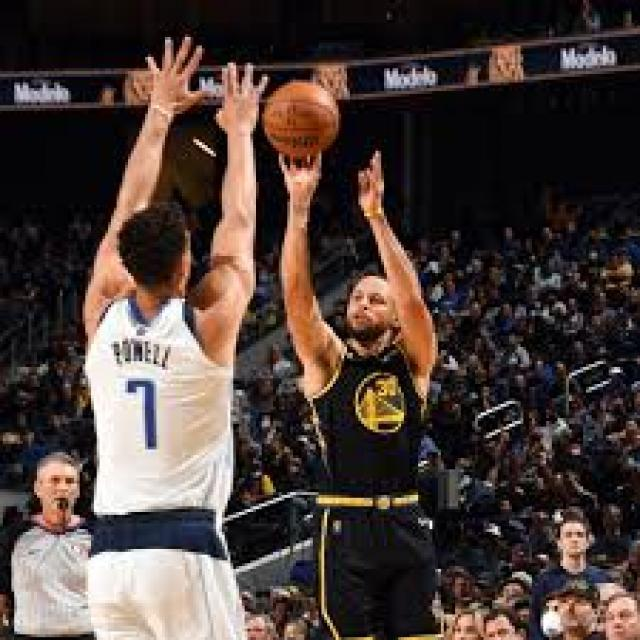rim: (264, 76, 342, 160)
